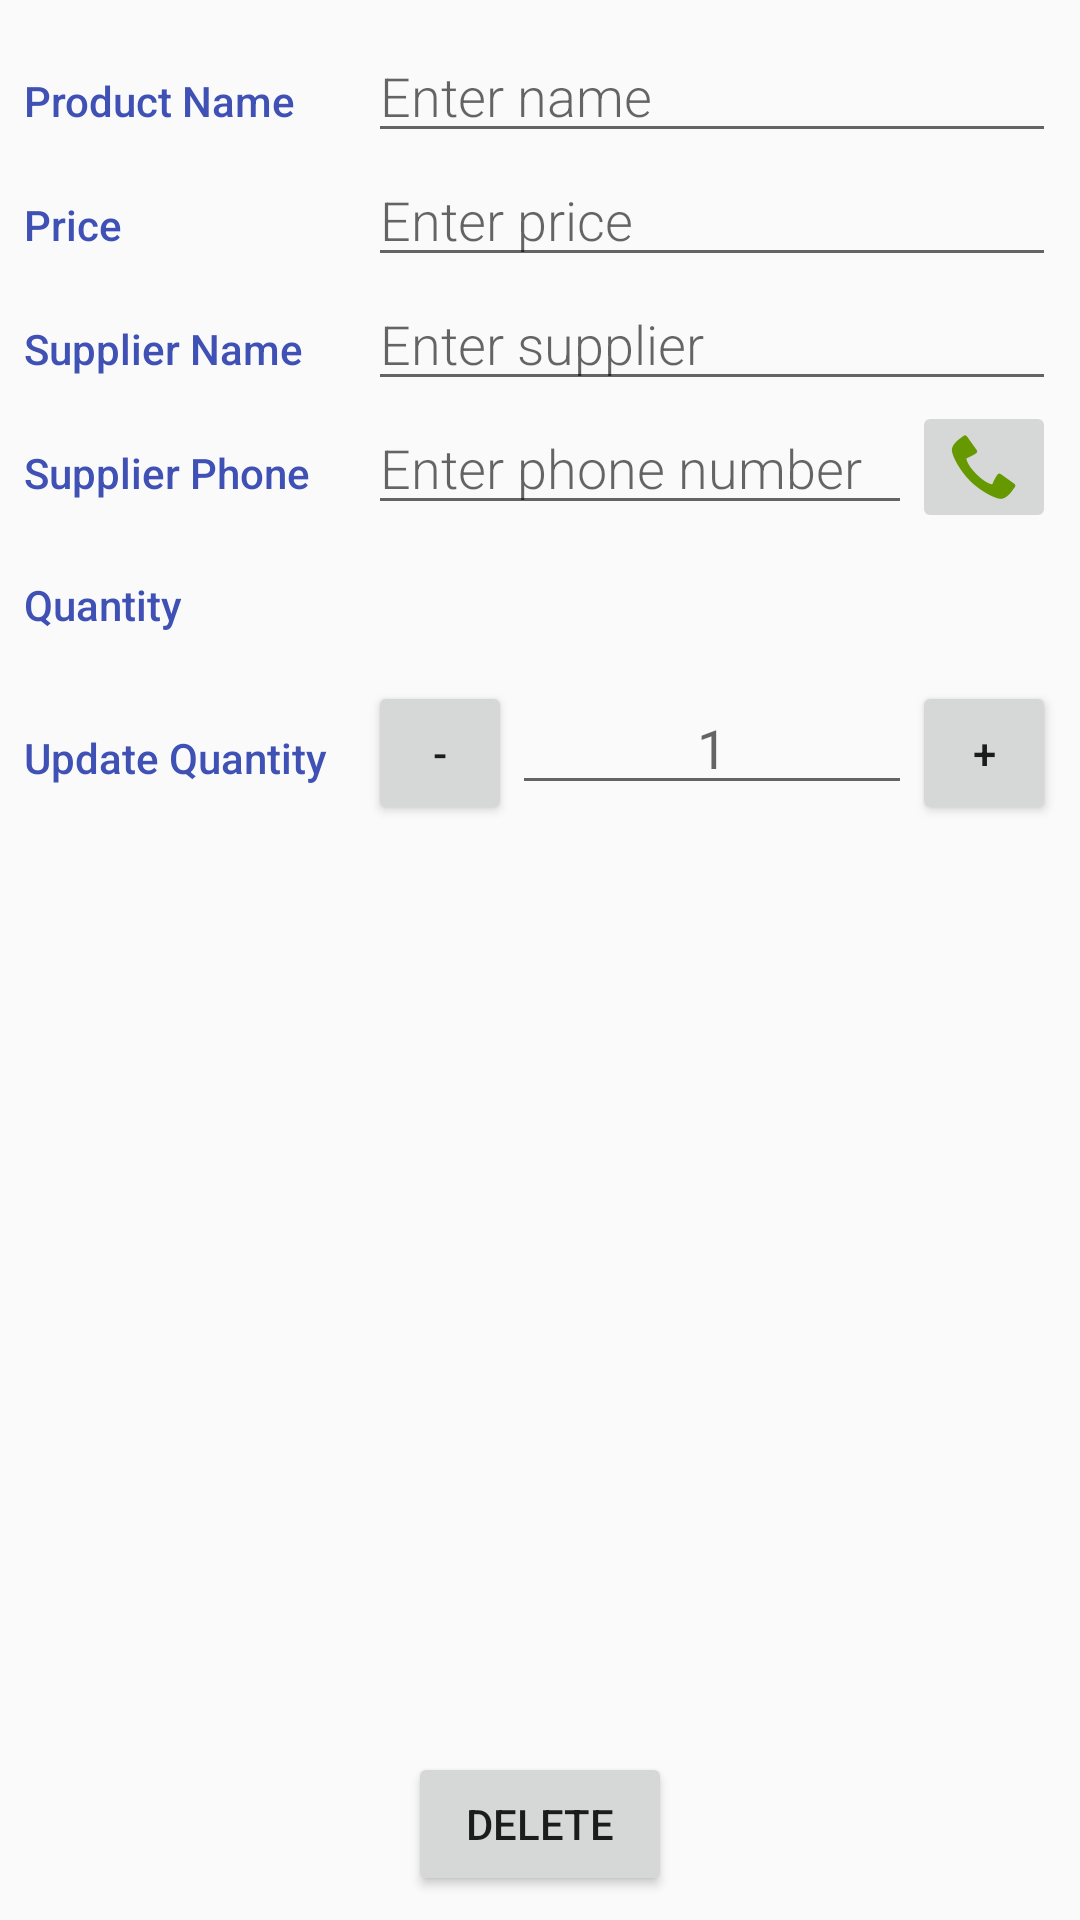

Point at icon controls on the screen. Image size 1080px x 1920px, points as point (x, y).
phone call: point (984, 467)
